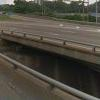Bridge: (5, 12, 100, 63)
